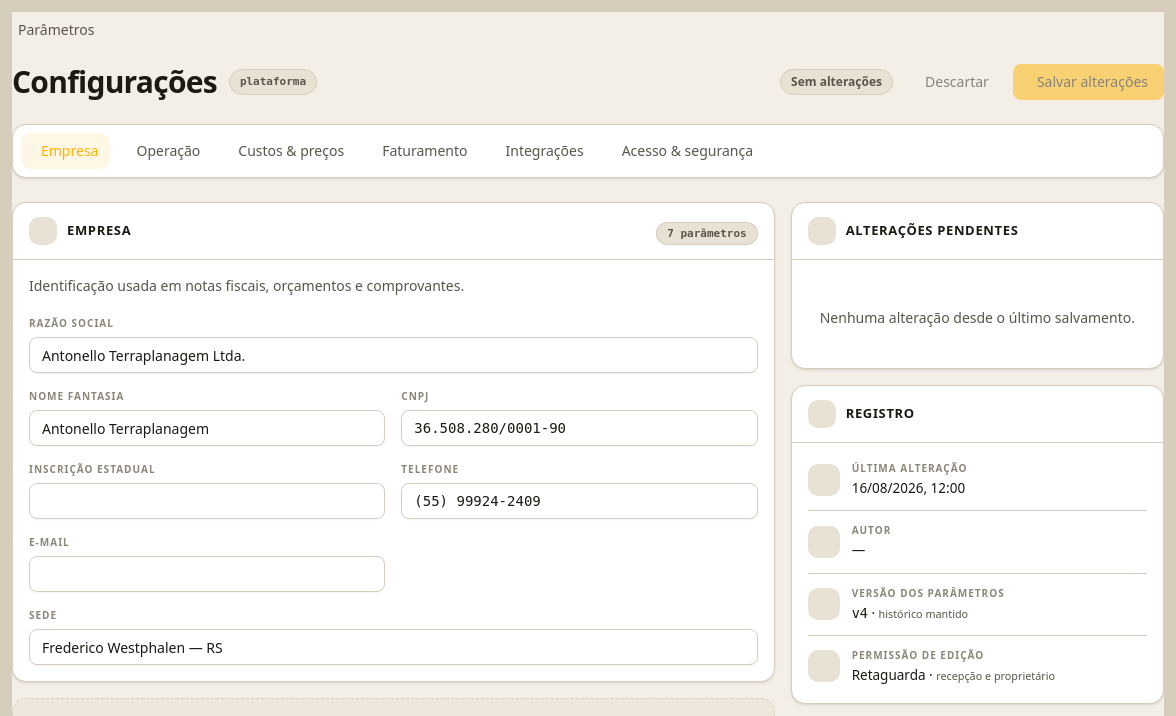
Test: ConfiguracoesPage › marca como só cadastro os parâmetros que o sistema ainda não consulta
Click the button "Acesso & segurança" at (683, 151), box [602,133,765,169]
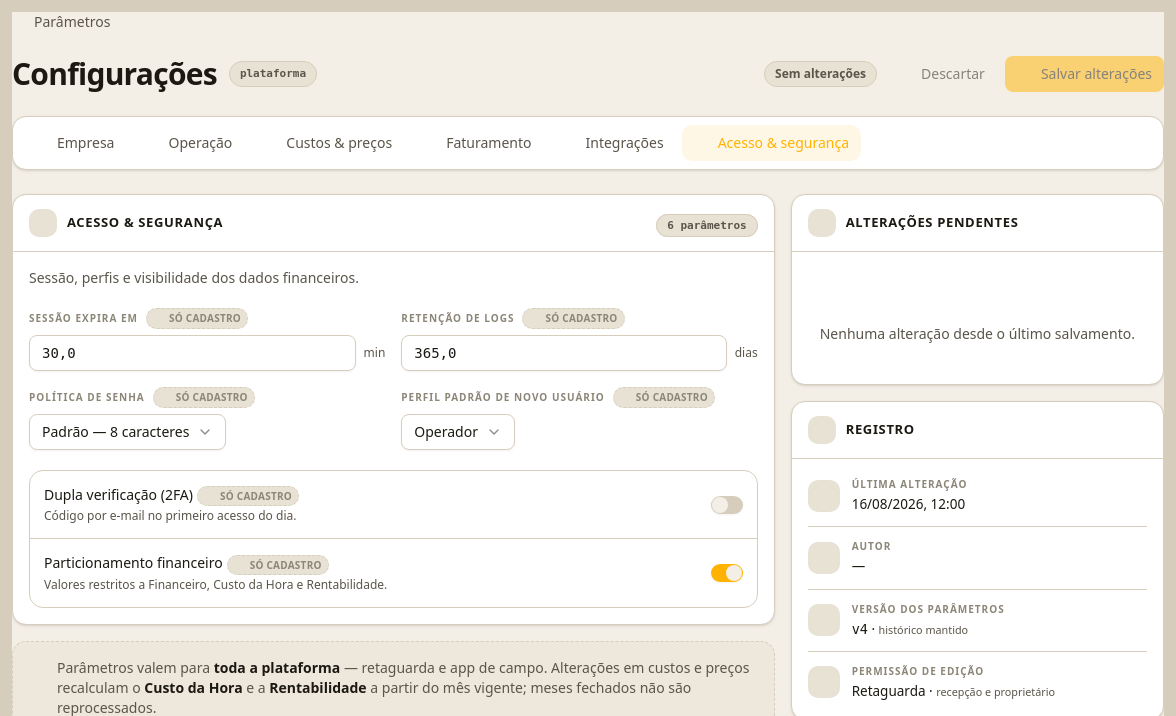
Check: the text "só cadastro" is shown 6 times, box [146,308,248,329]; [522,308,625,329]; [153,387,255,408]; [613,387,715,408]; [197,486,299,506]; [227,554,329,575]
